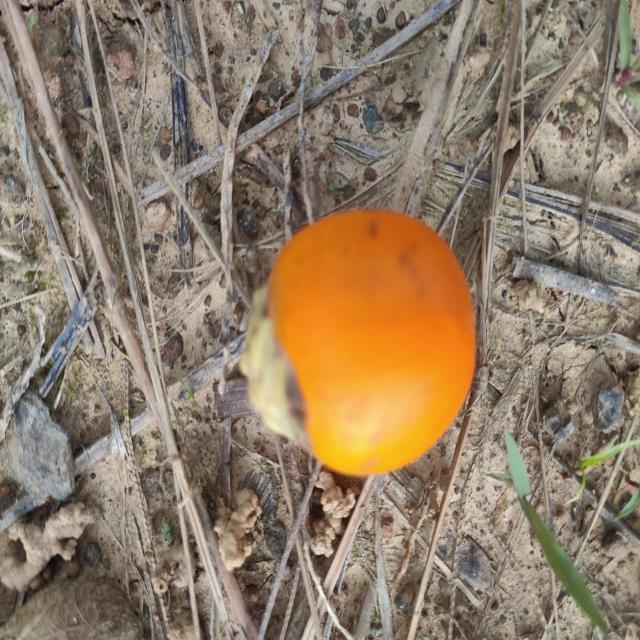good: (239, 210, 478, 480)
